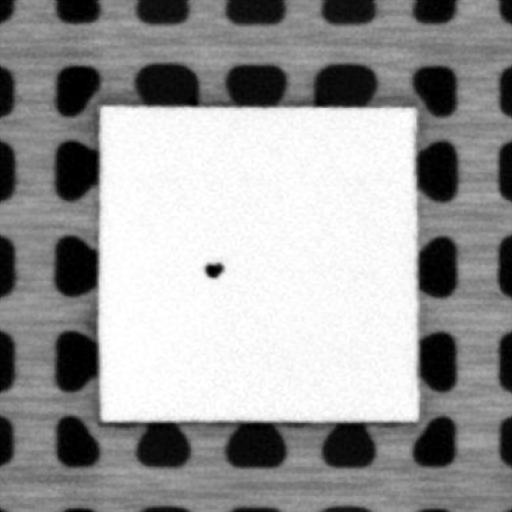DIE_INK: (199, 258, 226, 278)
